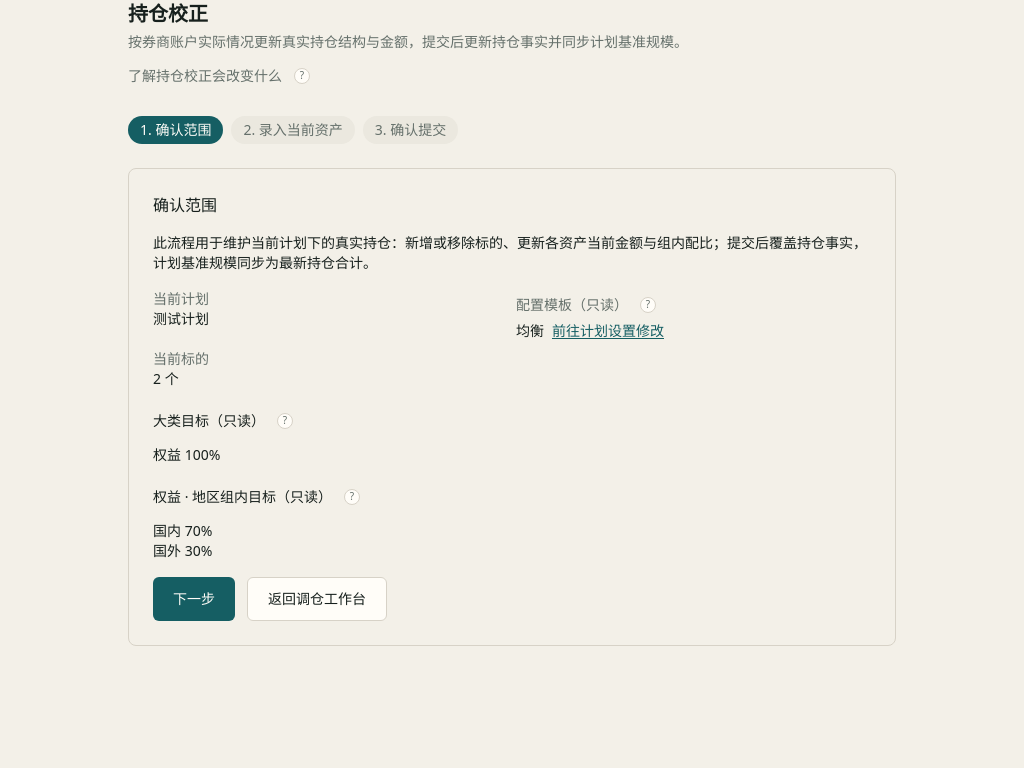
it: AssetRefreshPage › navigates from scope confirmation to entry and back
Click the button "下一步".
click(194, 599)  # box left=153, top=577, right=235, bottom=621
(page scrolled)
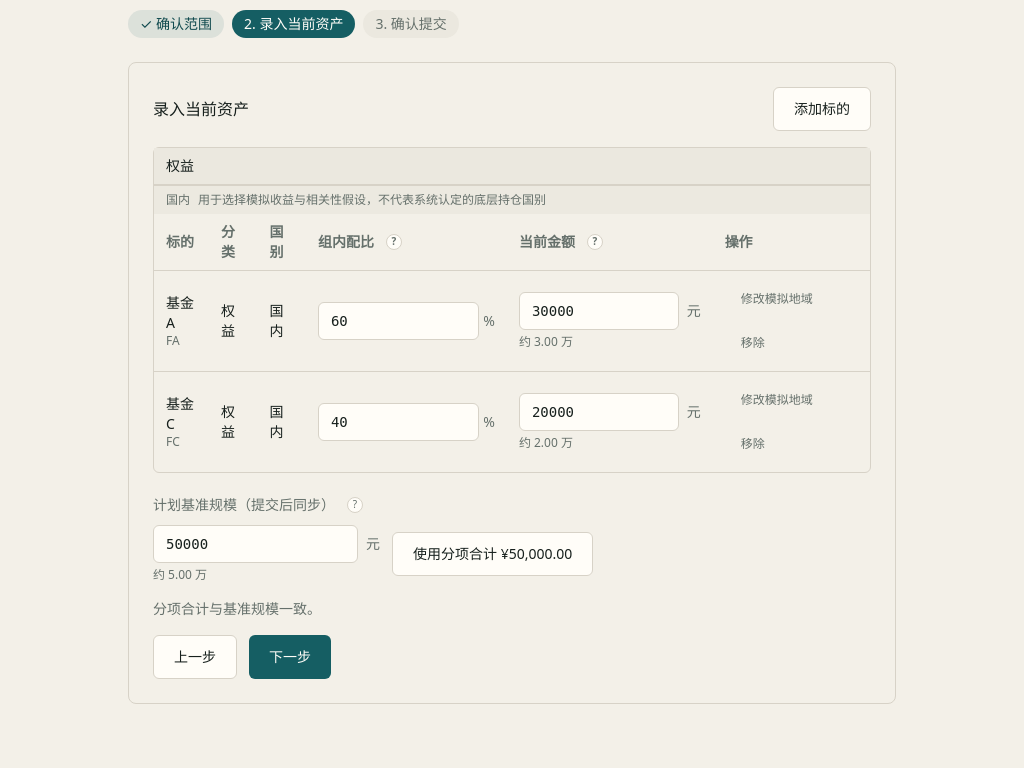
expect the heading "录入当前资产" is shown: met, box left=153, top=97, right=249, bottom=121
expect the heading "权益" is shown: met, box left=154, top=148, right=870, bottom=185
expect the heading "国内" is shown: met, box left=166, top=191, right=190, bottom=208
Click the button "上一步".
click(195, 657)  # box left=153, top=635, right=237, bottom=679
(page scrolled)
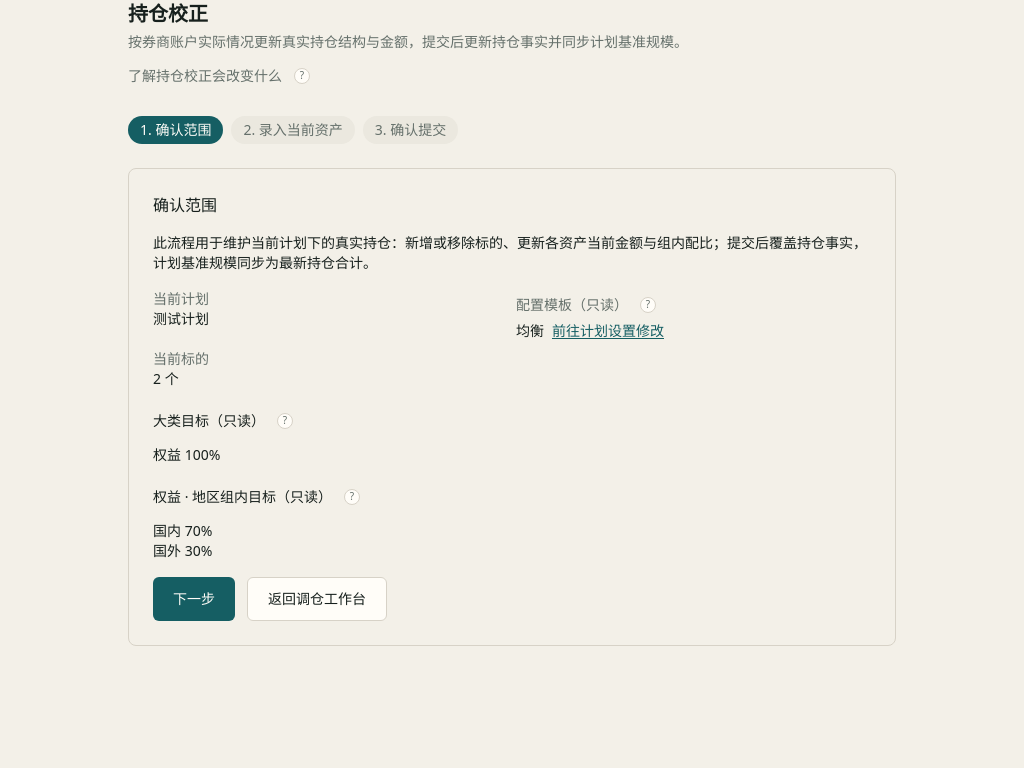
expect the heading "确认范围" is shown: met, box left=153, top=194, right=217, bottom=216
